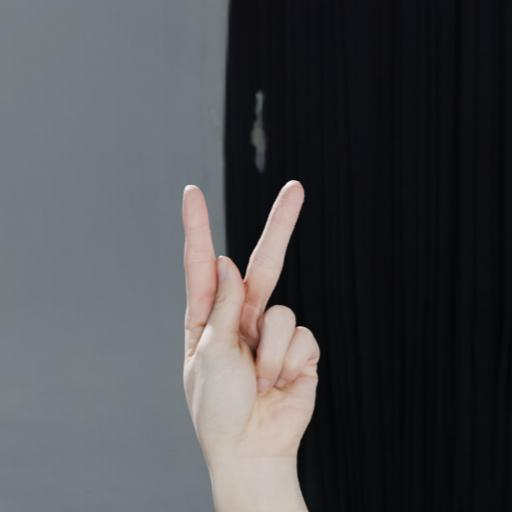K: (170, 175, 333, 480)
